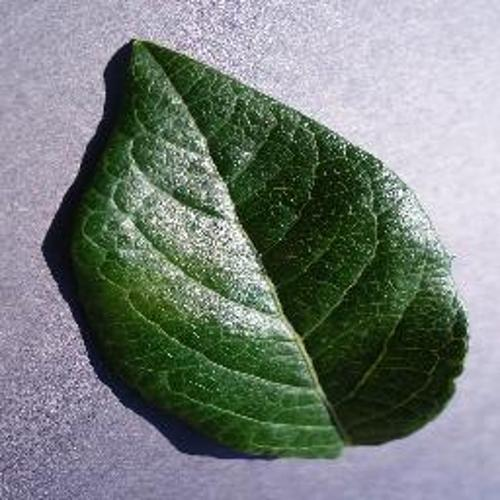Blueberry: (72, 40, 467, 459)
